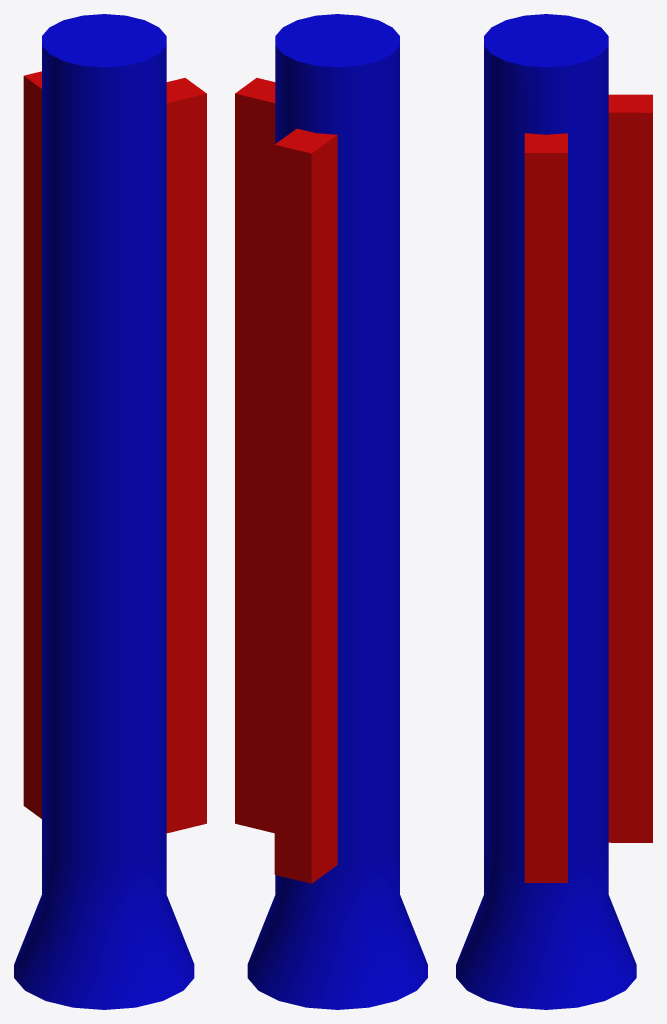
Rendered from EnergyWallBorderVar2.fbx.
3 views of the same model, side by side, from view 1: azimuth 30°, elevation 25°; view 2: azimuth 150°, elevation 25°; view 3: azimuth 270°, elevation 25° (orthographic).
Visible parts, largest first — view 1: EnergyWallBorderVar2; view 2: EnergyWallBorderVar2; view 3: EnergyWallBorderVar2.
Part boxes in pixels (bbox=[...]): EnergyWallBorderVar2: bbox=[14, 14, 206, 1009]; EnergyWallBorderVar2: bbox=[235, 14, 427, 1009]; EnergyWallBorderVar2: bbox=[456, 14, 652, 1009].
Size of the model in its own units: 20.67 by 107 by 20.58.
